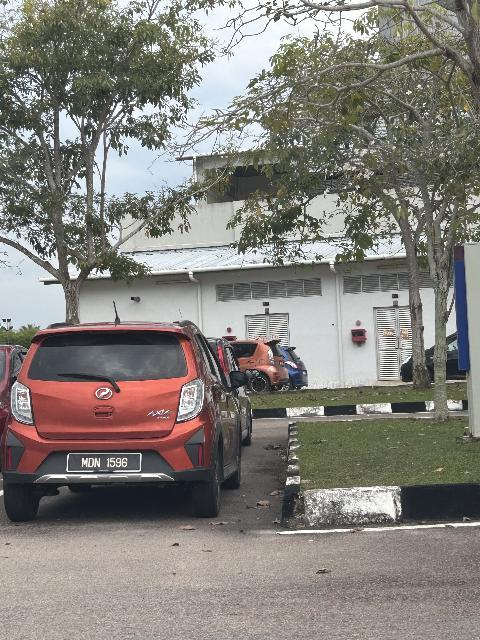License_Plate: (63, 454, 145, 473)
MDN1596: (63, 454, 145, 473)
car: (8, 325, 241, 523)
